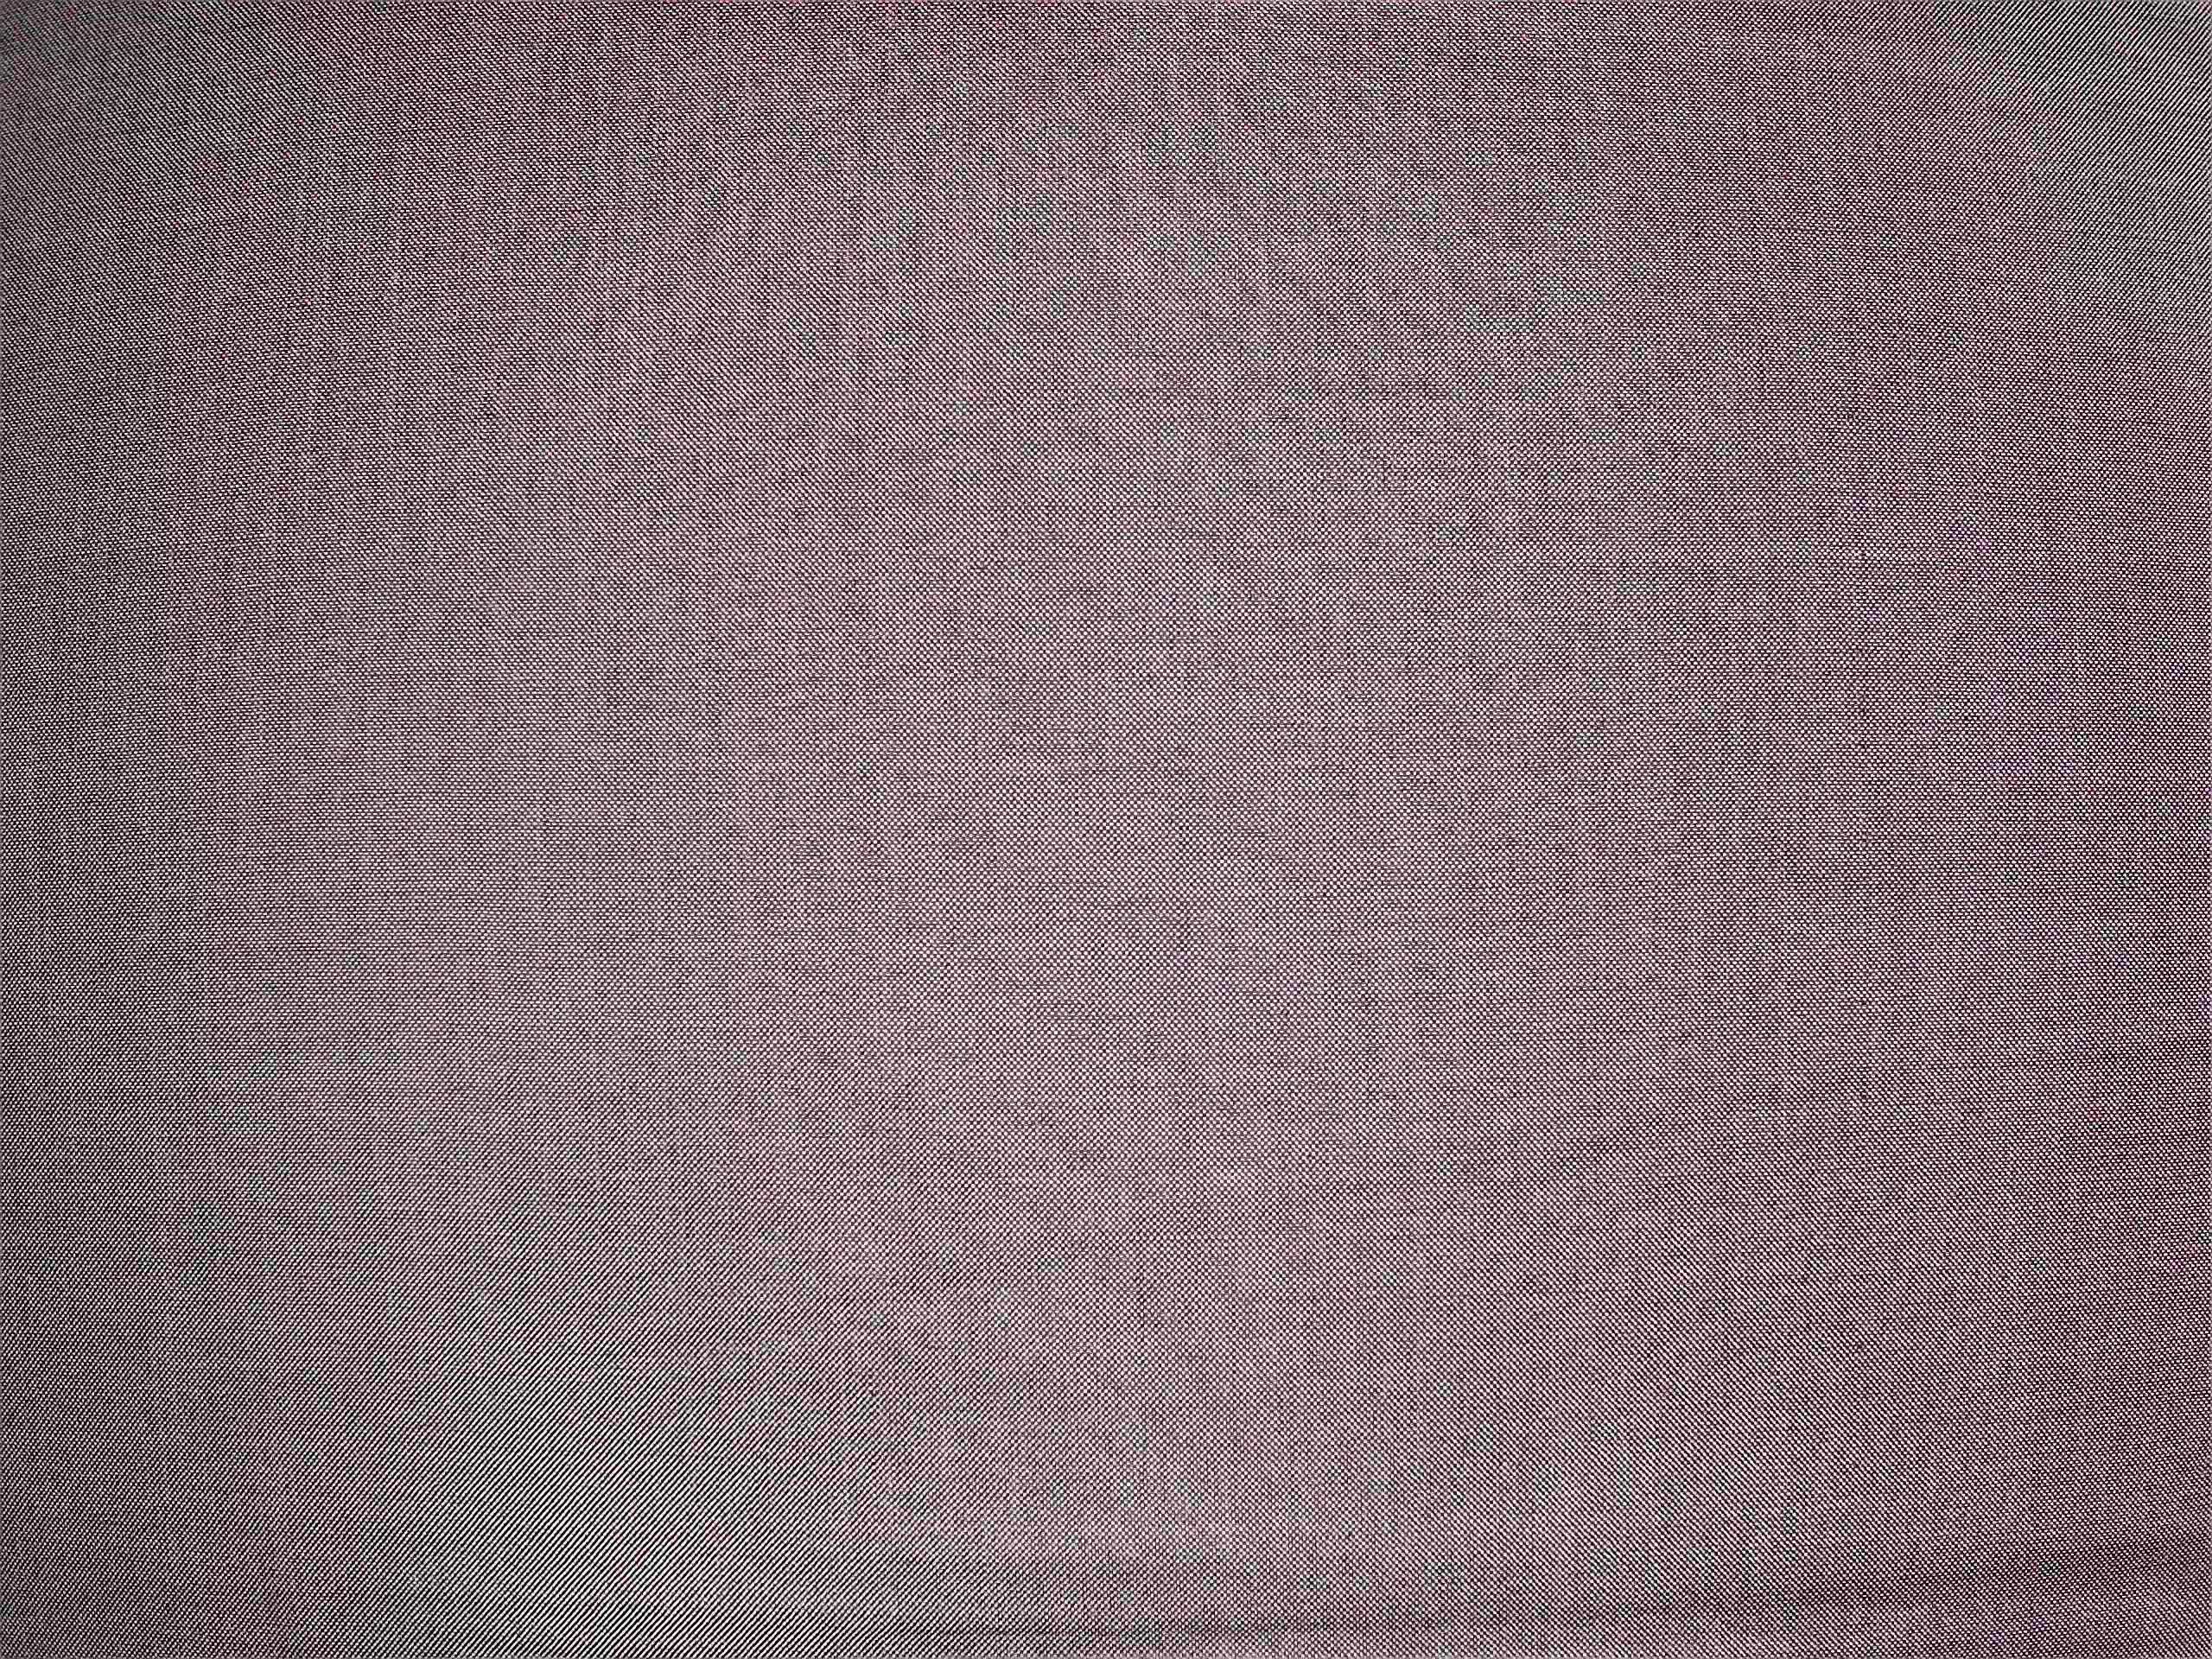jumps: (1831, 308, 1878, 1110), (1789, 1268, 1878, 1361)
